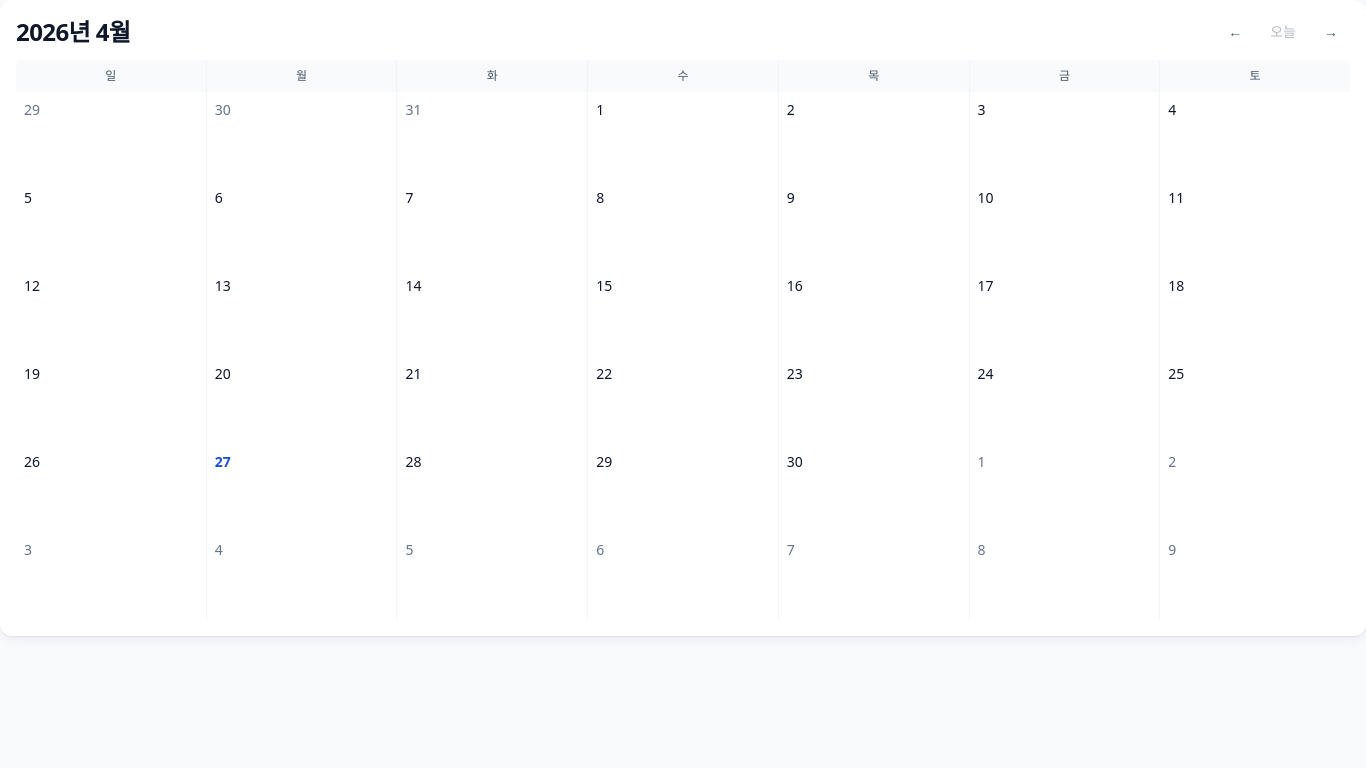
it: Add-todo flow (#11) › 빈 입력은 차단되고 에러 메시지가 노출된다
Click the cell named "2026-04-27, 오늘": point(302, 488) [207,444,396,532]
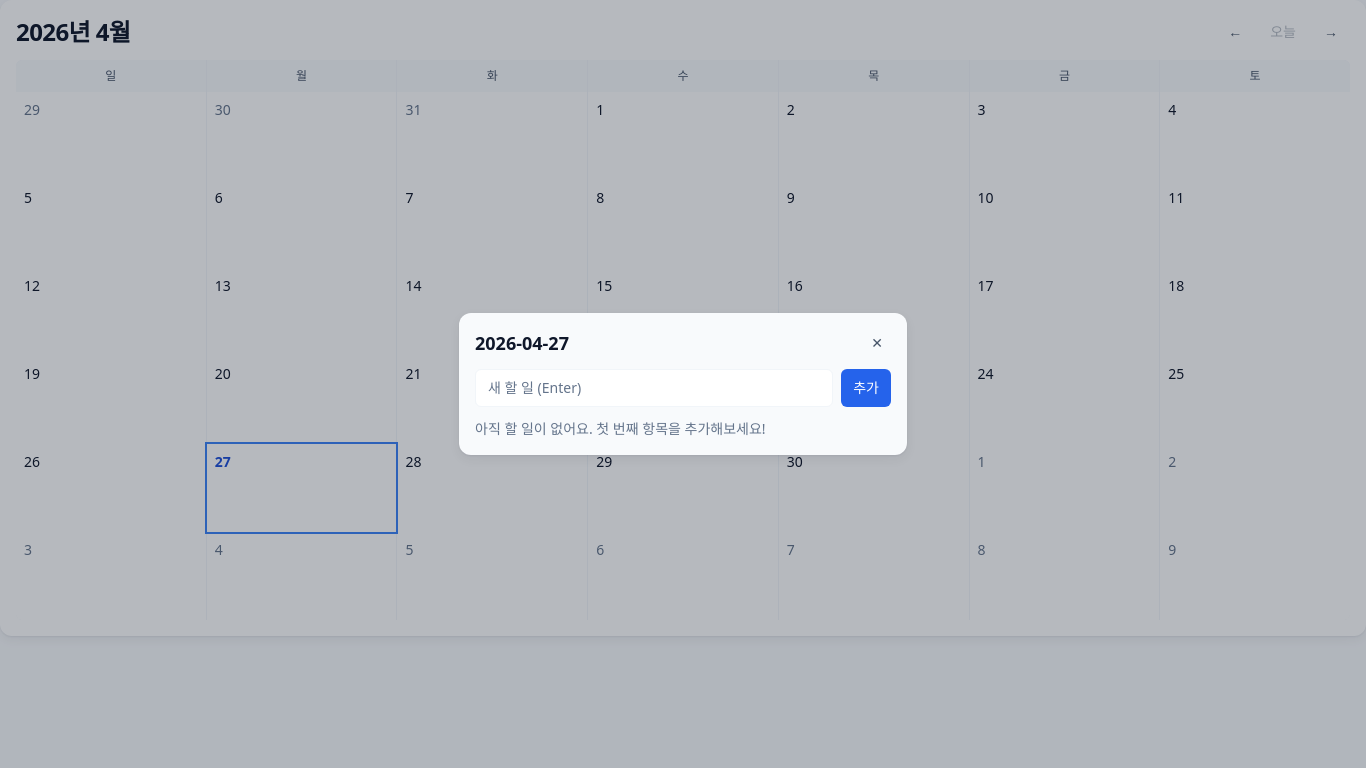
Click the button with test id "todo-add": point(866, 388) [841,369,891,407]
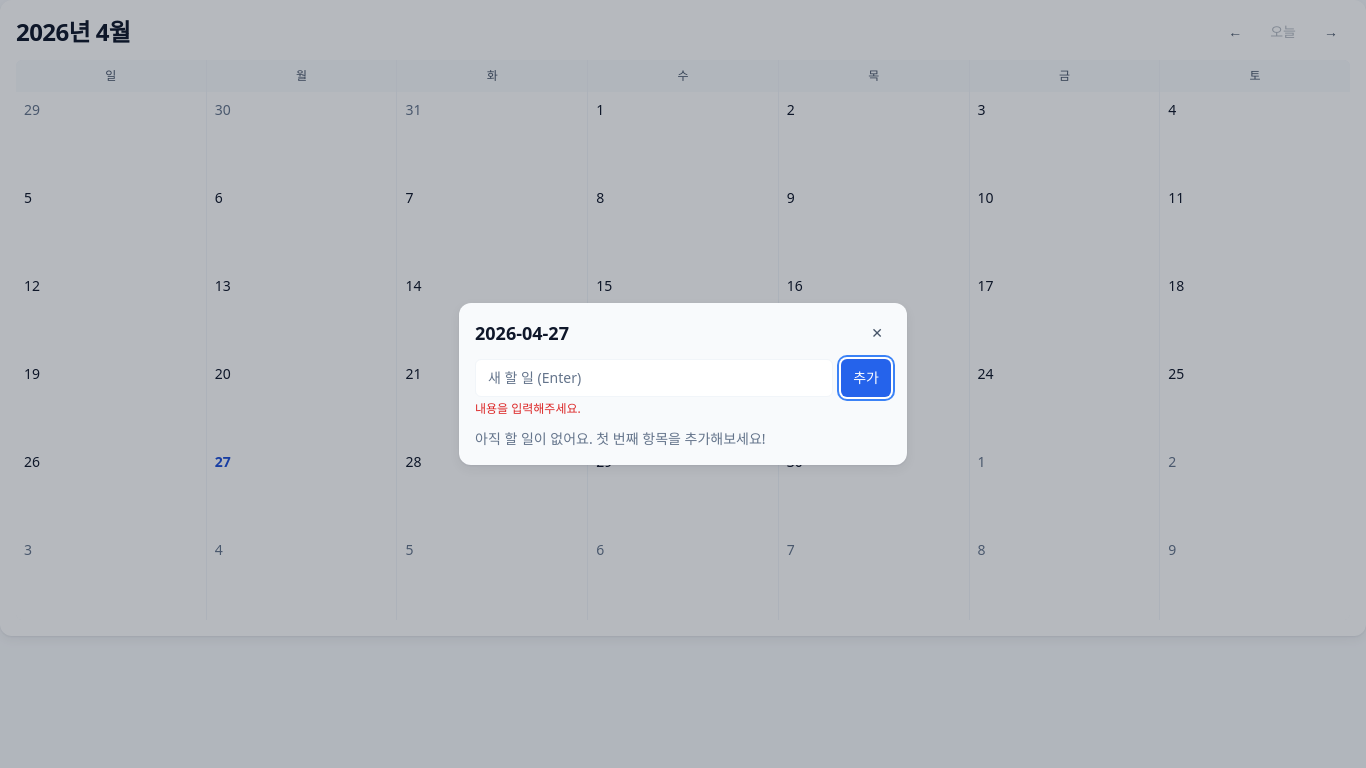
Expected: the message "내용을 입력해주세요." is shown, [475,400,581,417]
